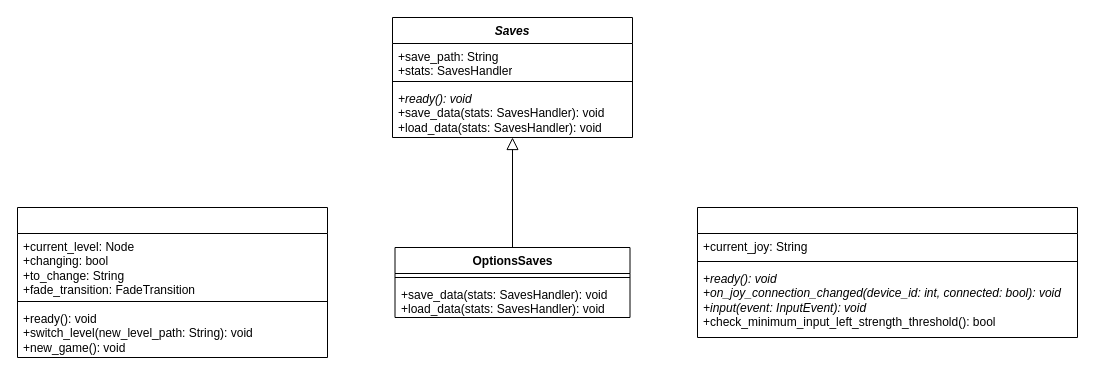
The diagram is 1095 pixels wide and 378 high, and some of its shapes have lost their labels. The shapes that lost their labels are listed below. From the top down, each one's box as (x1, y1, x2, y2) in pixels, then its label:
(16, 206, 328, 358): LevelTransition
(696, 206, 1078, 338): InputHandlerUI
